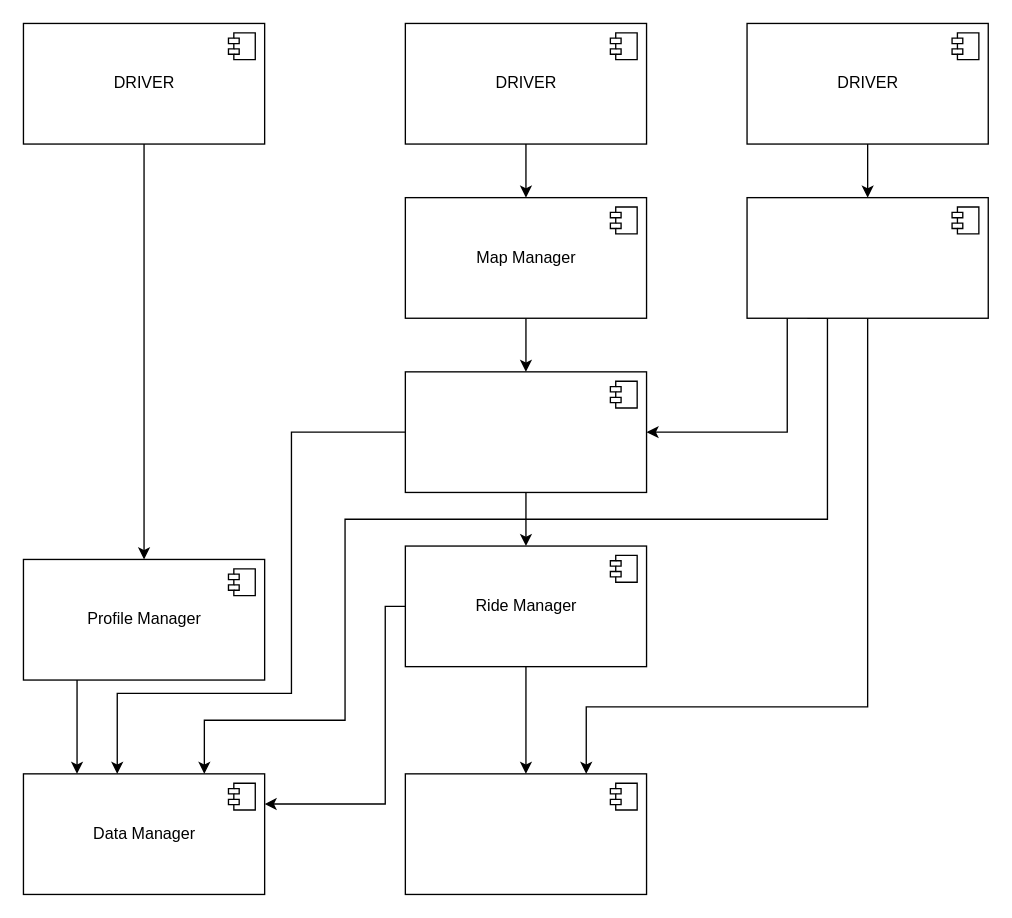
This 1012x918 diagram has some shape labels left out. The shapes that lost their labels are listed below. From the top down, each one's box as (x1, y1, x2, y2) in pixels, then its label:
(746, 196, 988, 318): Reservation Manager
(404, 371, 647, 492): Vehicle Manager
(404, 773, 647, 894): Payment Manager
